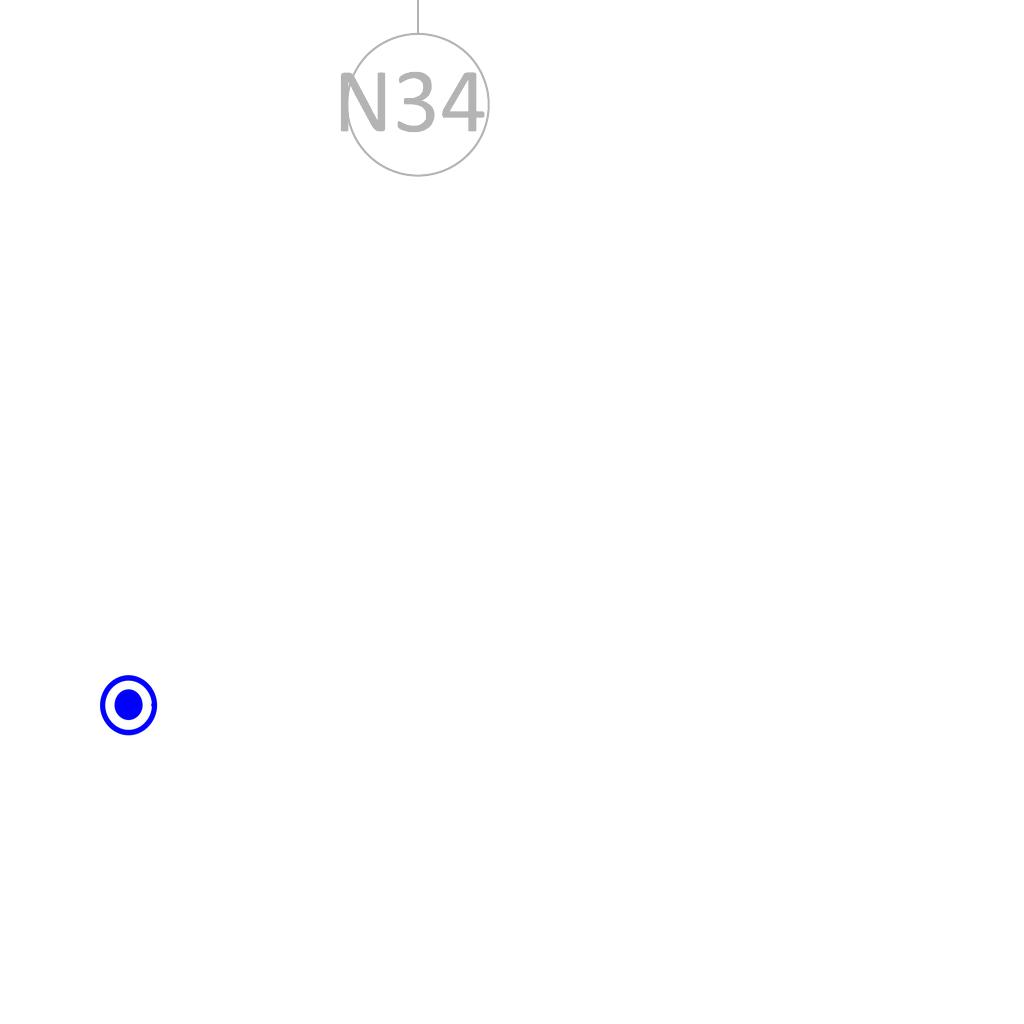Taster: (98, 672, 164, 738)
